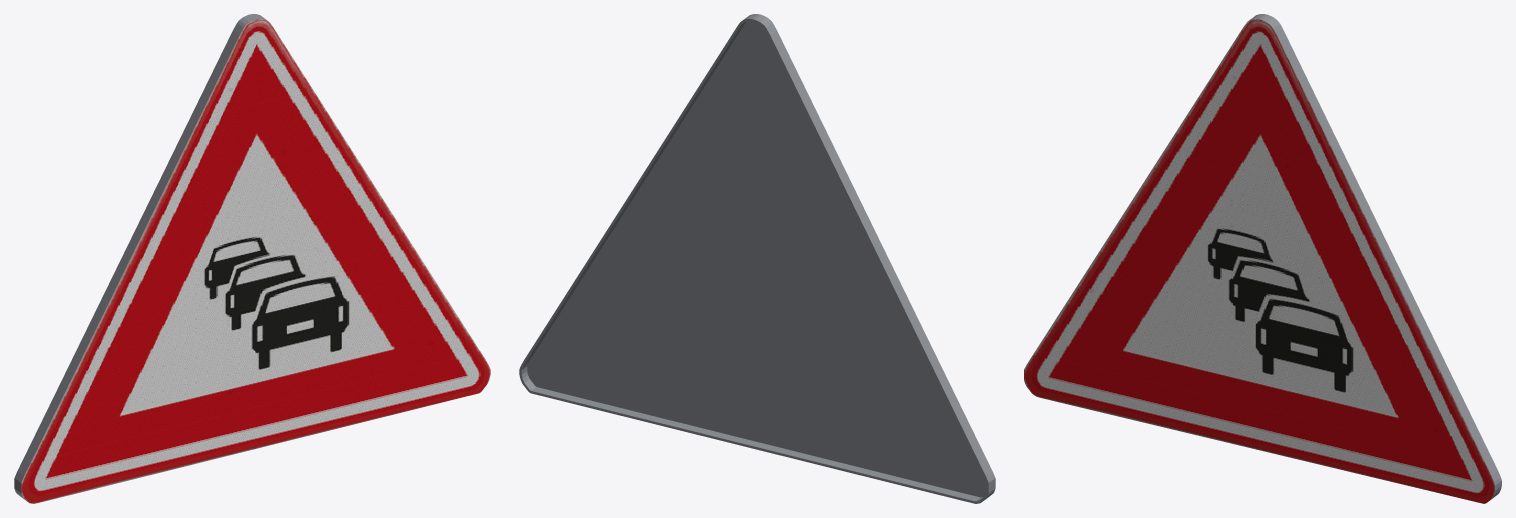
3 views of the same model, side by side, from view 1: azimuth 30°, elevation 25°; view 2: azimuth 150°, elevation 25°; view 3: azimuth 330°, elevation 25° (orthographic).
Visible parts, largest first — view 1: cat_2a46b28aa23df10e; view 2: cat_2a46b28aa23df10e; view 3: cat_2a46b28aa23df10e.
Boxes of the visible parts, box(x1,y1,x2,y2) form: cat_2a46b28aa23df10e: box(14, 14, 490, 503); cat_2a46b28aa23df10e: box(519, 14, 995, 503); cat_2a46b28aa23df10e: box(1024, 14, 1501, 503).
Size of the model in its own units: 0.6 by 0.015 by 0.5256.
Materials: 2 (1 with a texture image).
